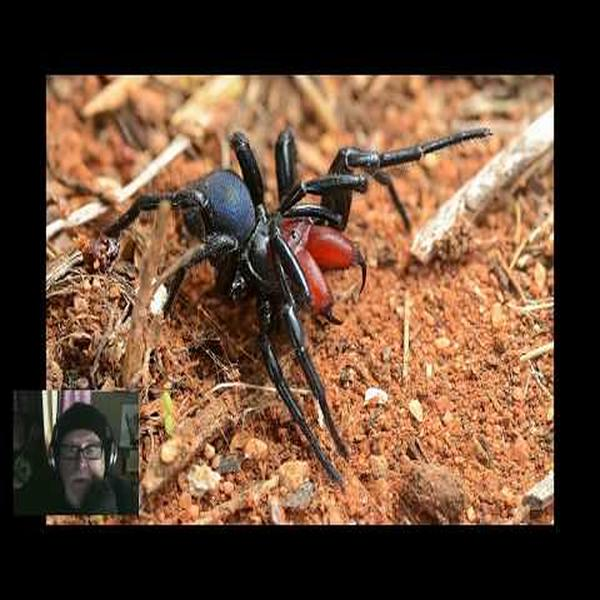Red Headed Mouse Spider: (136, 126, 488, 471)
